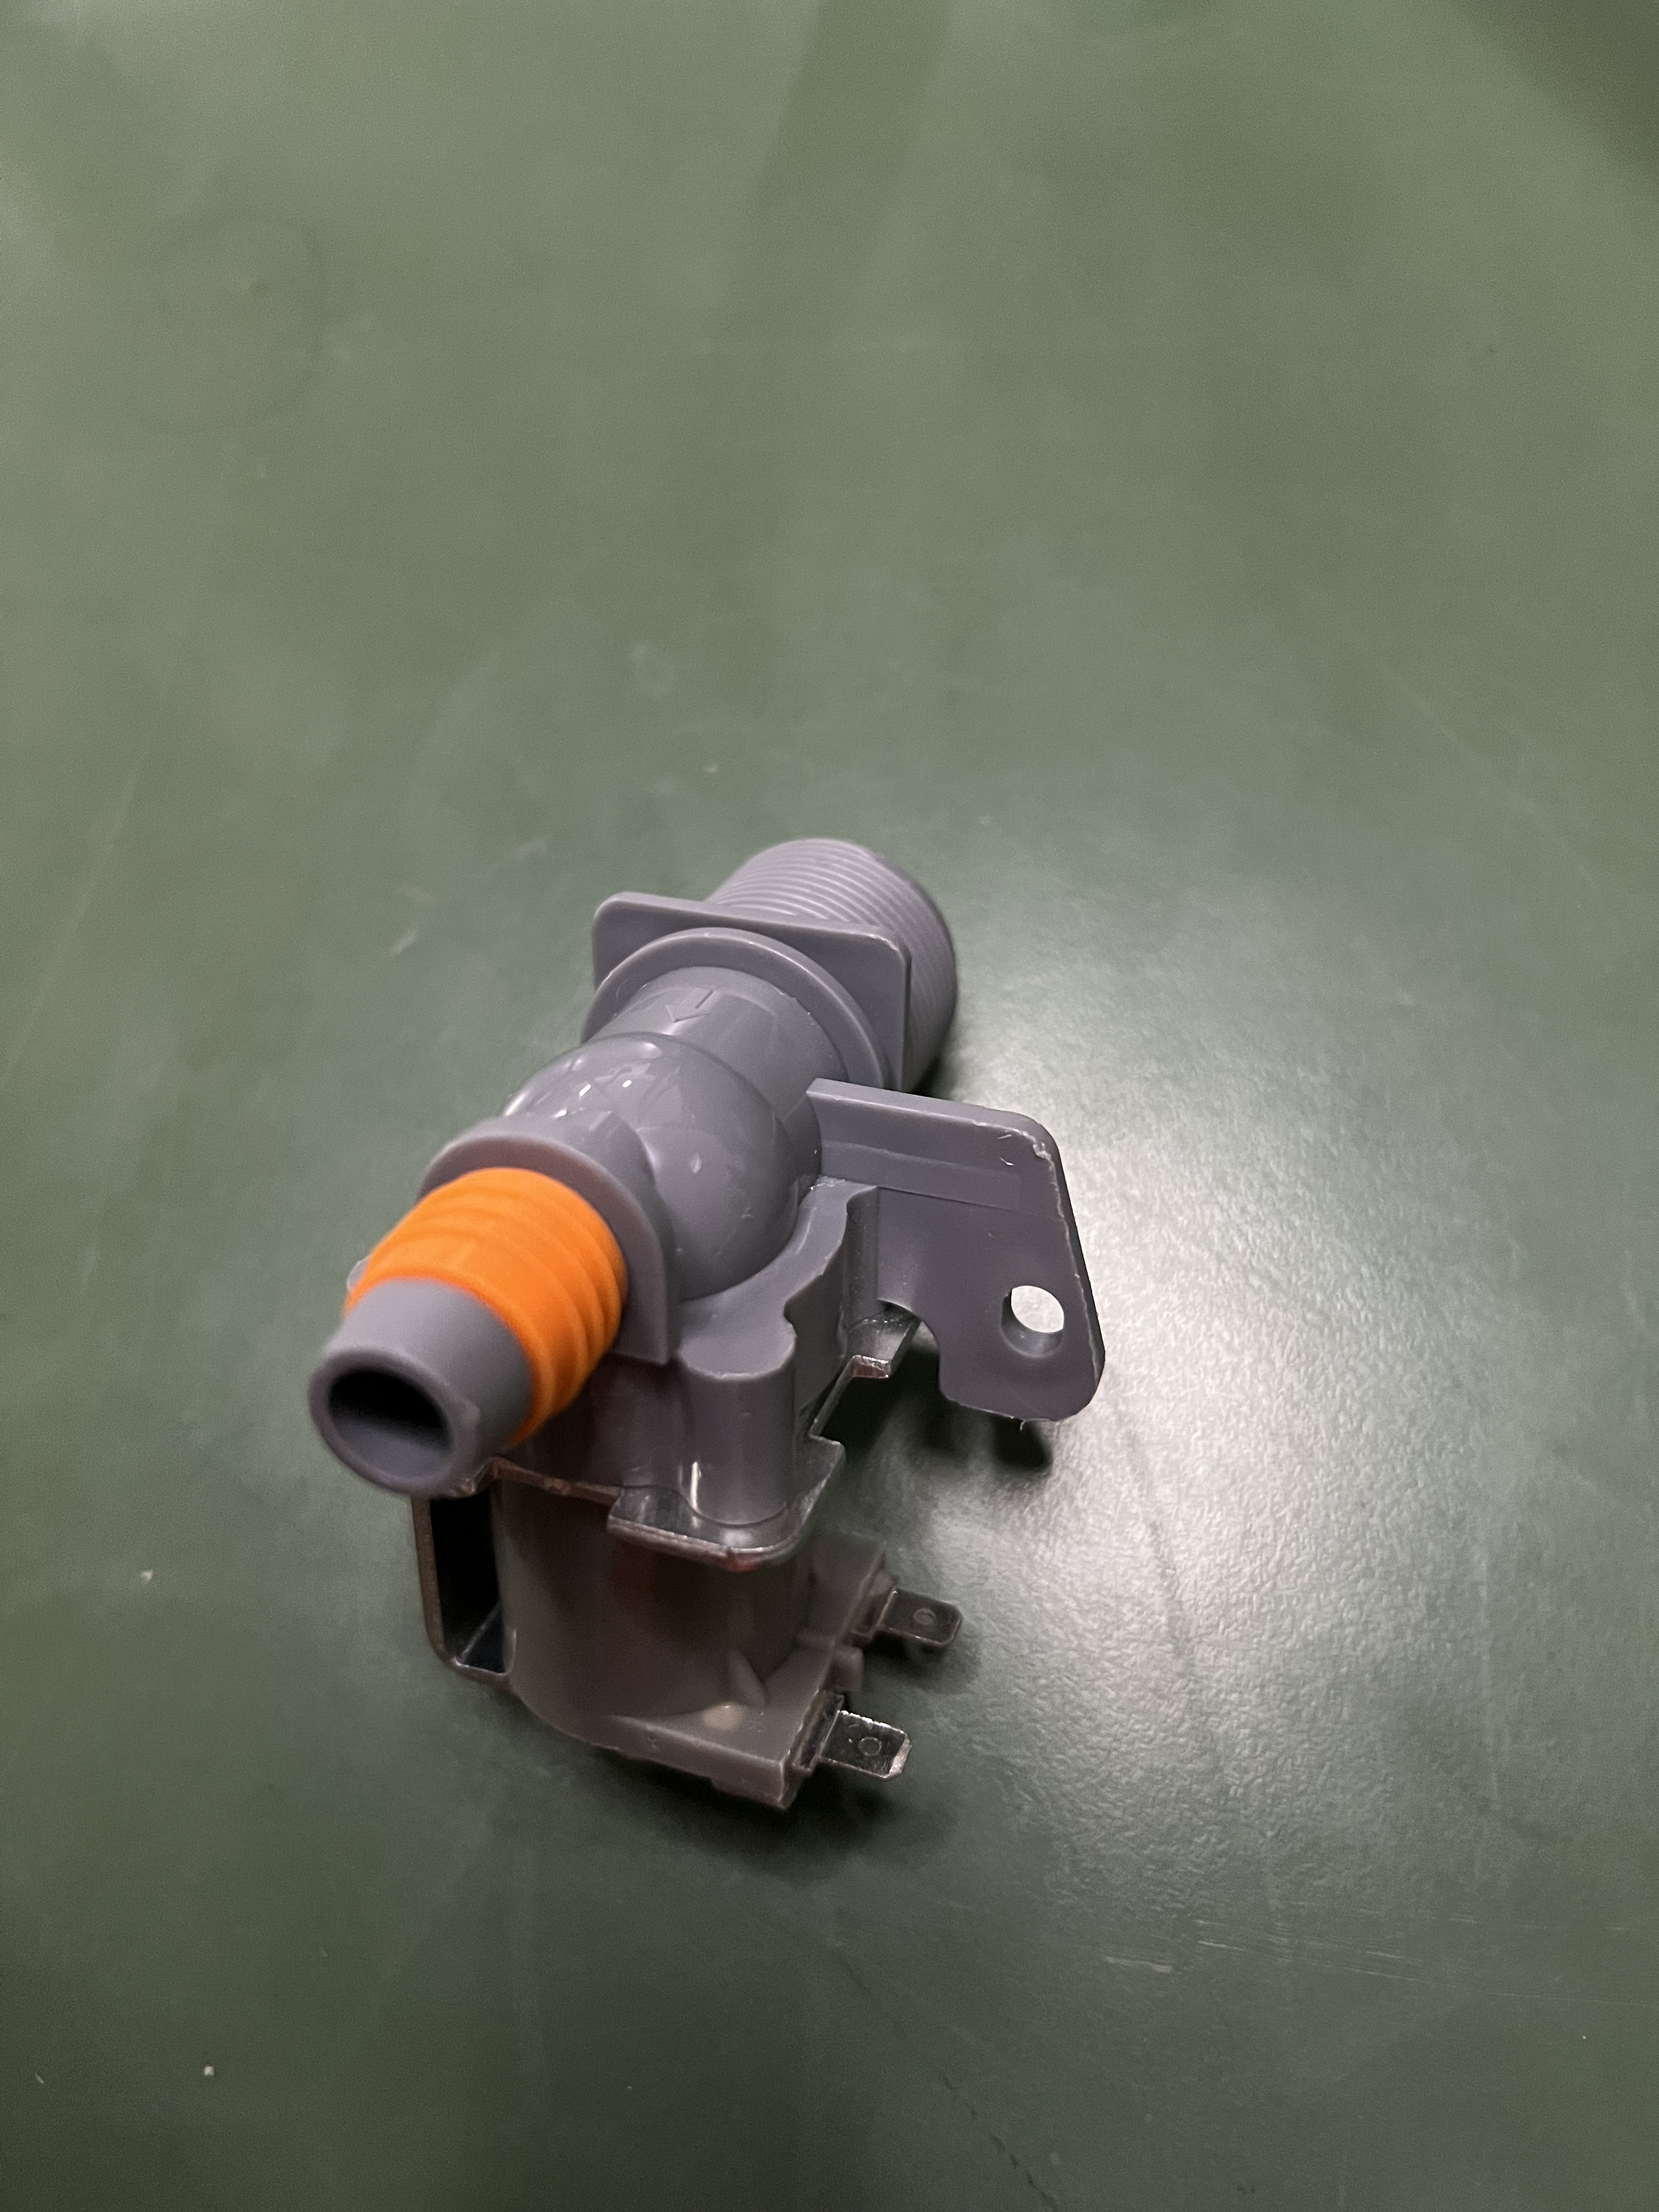inlet_valves: (279, 841, 1086, 1818)
